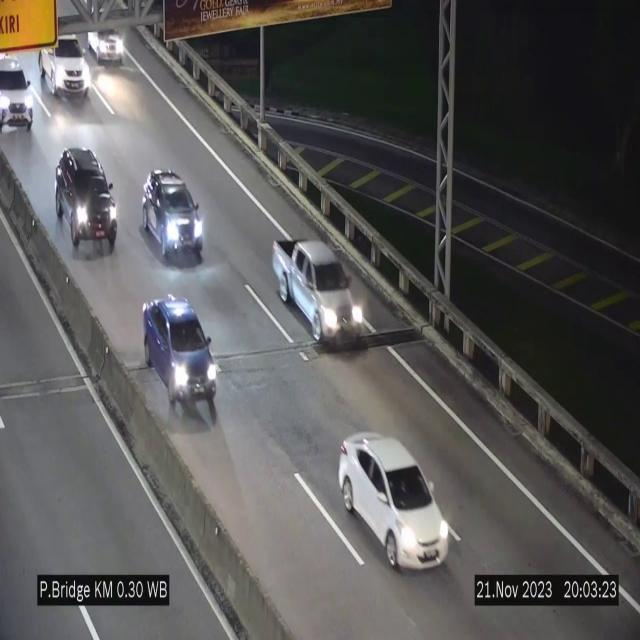Car: (338, 434, 450, 569), (272, 239, 369, 343), (144, 295, 216, 426), (52, 150, 120, 251), (142, 168, 204, 261), (41, 29, 89, 99), (0, 48, 35, 138), (86, 11, 128, 76)
